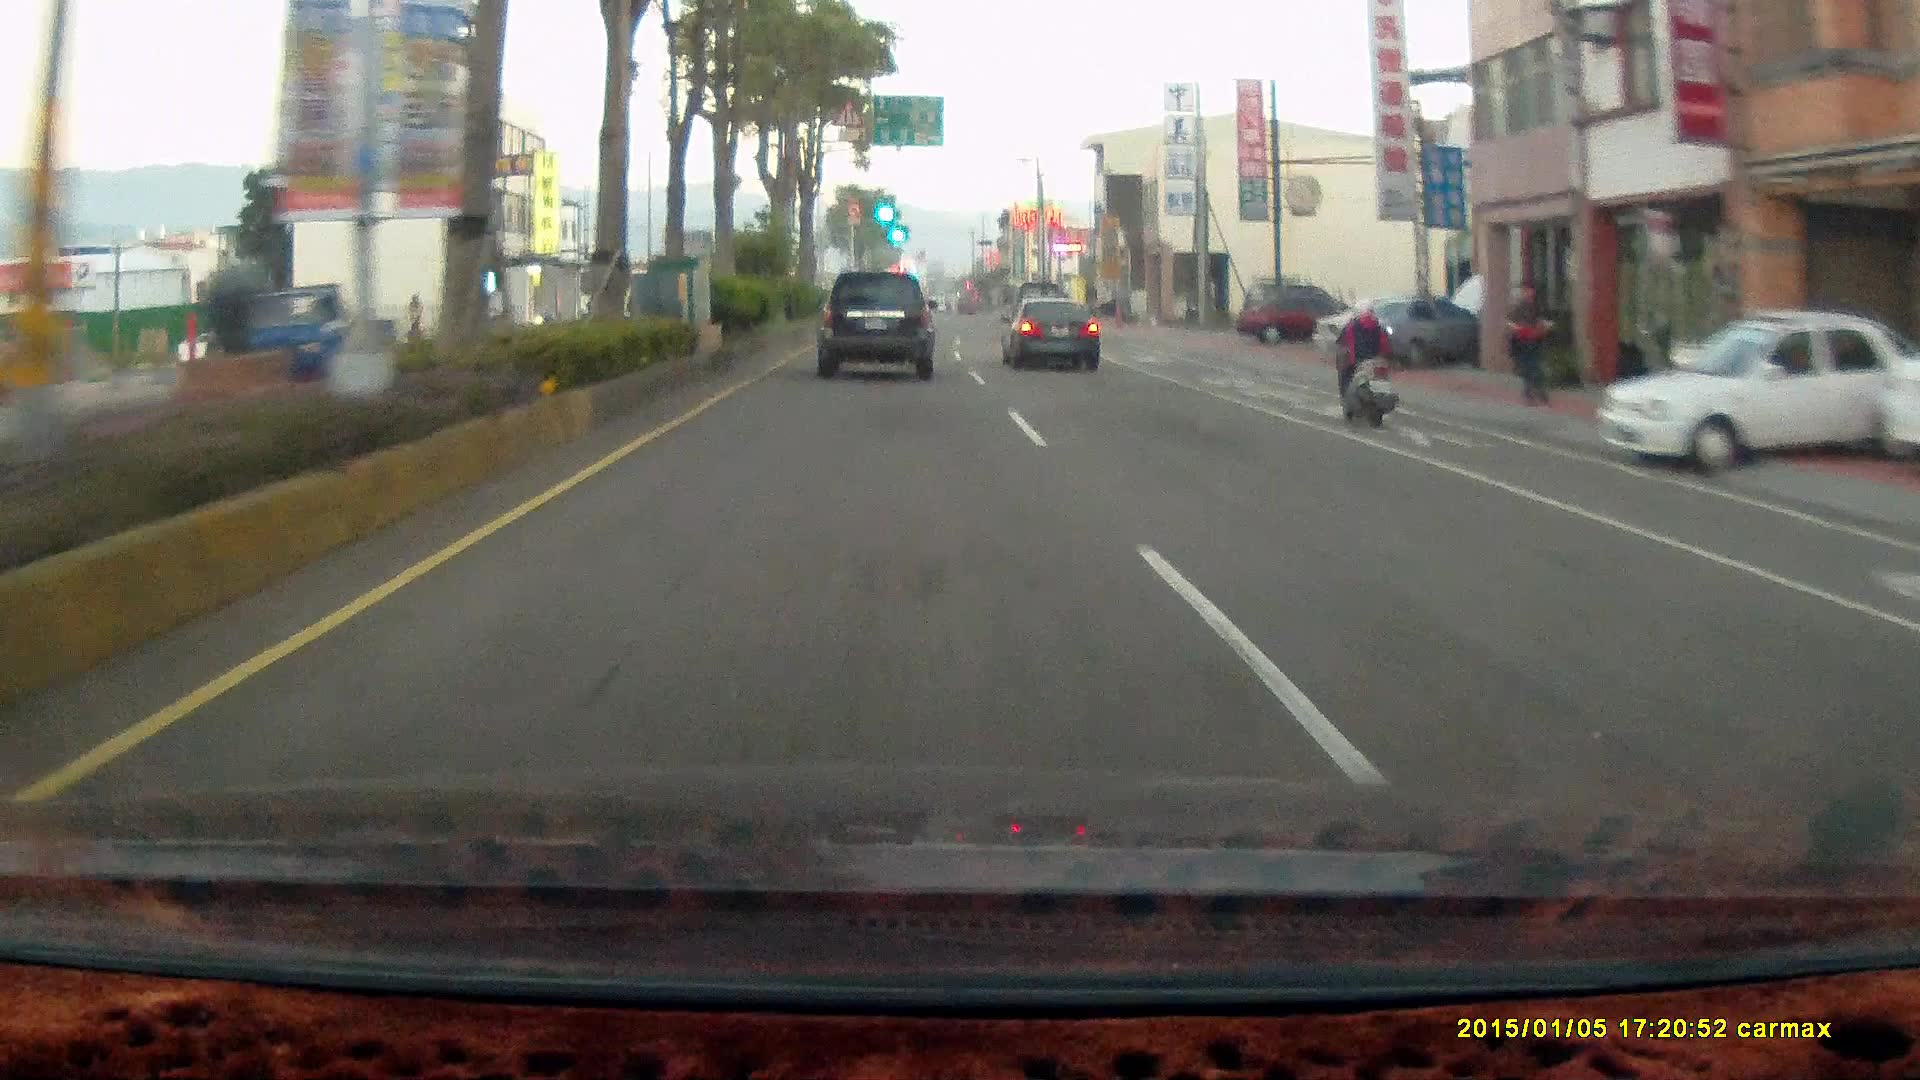pedestrian: (1500, 276, 1560, 407)
rider: (1320, 285, 1409, 438), (1330, 288, 1398, 421)
vehicle: (1592, 310, 1912, 473), (1602, 313, 1906, 484), (223, 282, 402, 396), (813, 266, 942, 385), (1312, 292, 1490, 371), (1312, 293, 1490, 372), (815, 271, 938, 380), (1234, 289, 1378, 349), (1001, 295, 1104, 373), (1235, 290, 1376, 344), (999, 295, 1101, 369), (1881, 355, 1920, 454)
